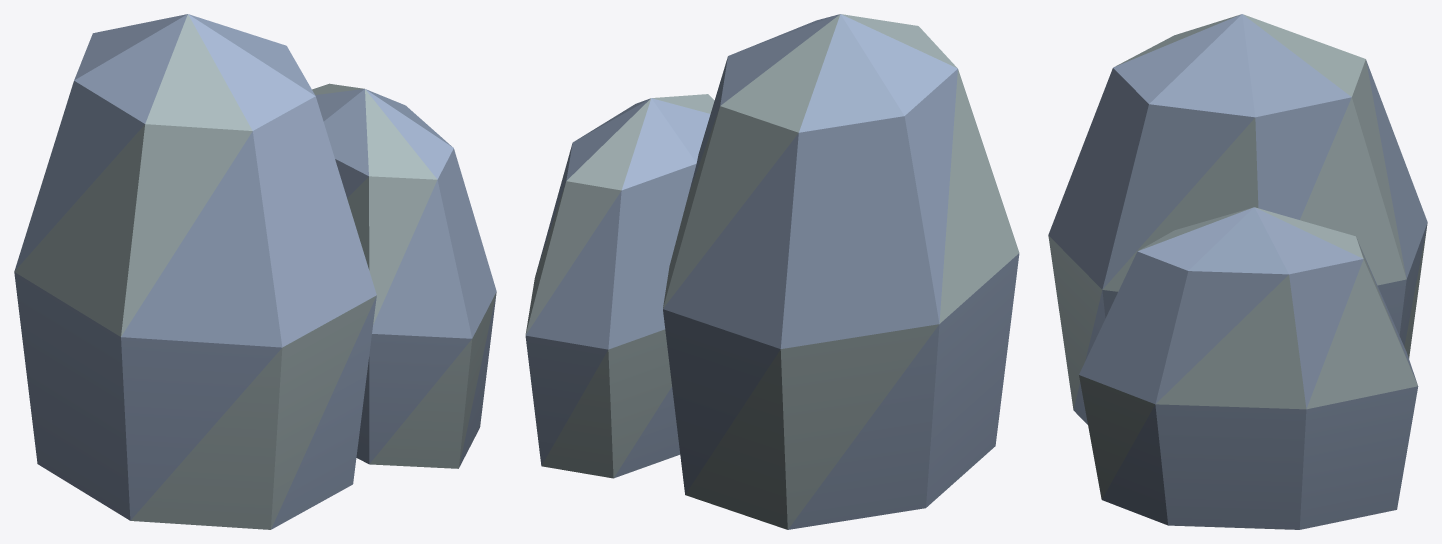
Rendered from rock.glb.
3 renders of one model, left to right at view 1: azimuth 30°, elevation 25°; view 2: azimuth 150°, elevation 25°; view 3: azimuth 270°, elevation 25°, orthographic. The views are drawn at different scales.
Visible parts, largest first — view 1: root_mesh; view 2: root_mesh; view 3: root_mesh.
Part boxes in pixels (x1,y1,x2,y2): root_mesh: (14,14,496,529); root_mesh: (525,14,1019,529); root_mesh: (1048,14,1427,529).
Bounding box in the file's own units: 0.9614 × 1 × 0.8572.
